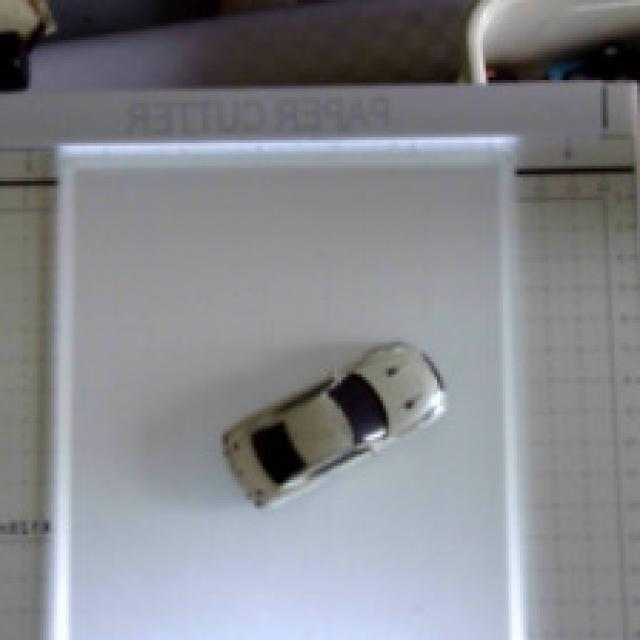Grey Car: (206, 308, 470, 545)
